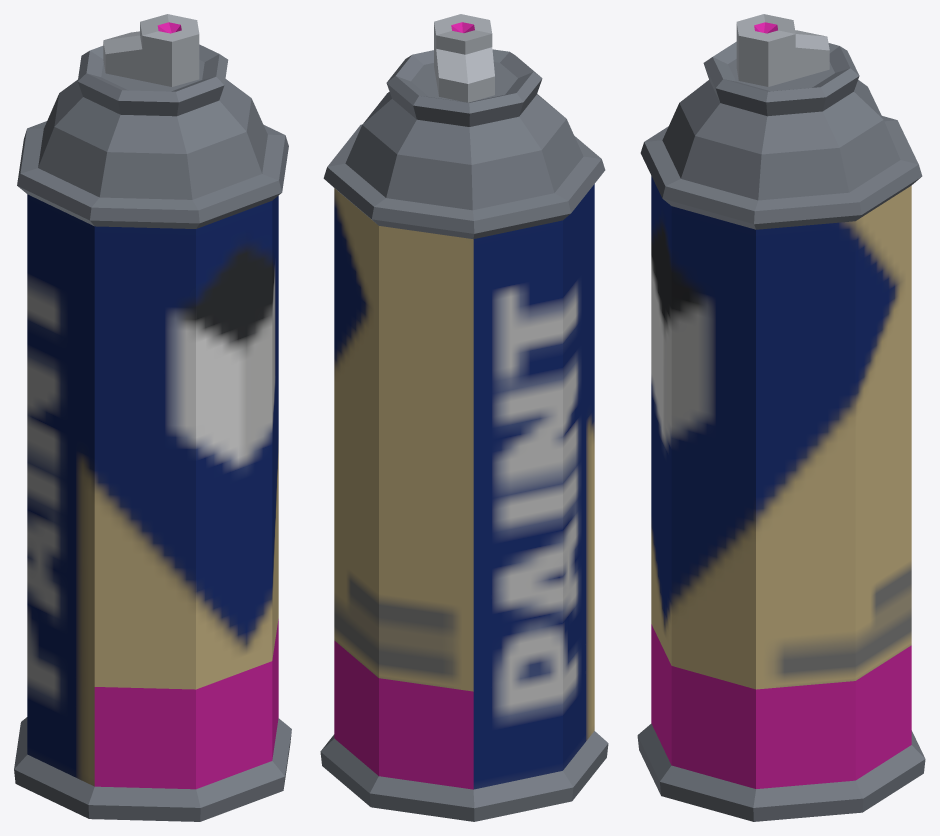
Rendered from SM_Item_SprayCan_02.glb.
The picture shows the model from 3 angles, left to right: view 1: azimuth 30°, elevation 25°; view 2: azimuth 150°, elevation 25°; view 3: azimuth 270°, elevation 25°; orthographic projection.
Parts seen in each view (by area): view 1: SM_Item_SprayCan_02; view 2: SM_Item_SprayCan_02; view 3: SM_Item_SprayCan_02.
Boxes of the visible parts, left/top/right/bottom form: SM_Item_SprayCan_02: left=14, top=14, right=291, bottom=821; SM_Item_SprayCan_02: left=320, top=14, right=608, bottom=821; SM_Item_SprayCan_02: left=637, top=14, right=925, bottom=821.
Bounding box in the file's own units: 0.1224 × 0.3462 × 0.1224.
1 material, 1 textured.
